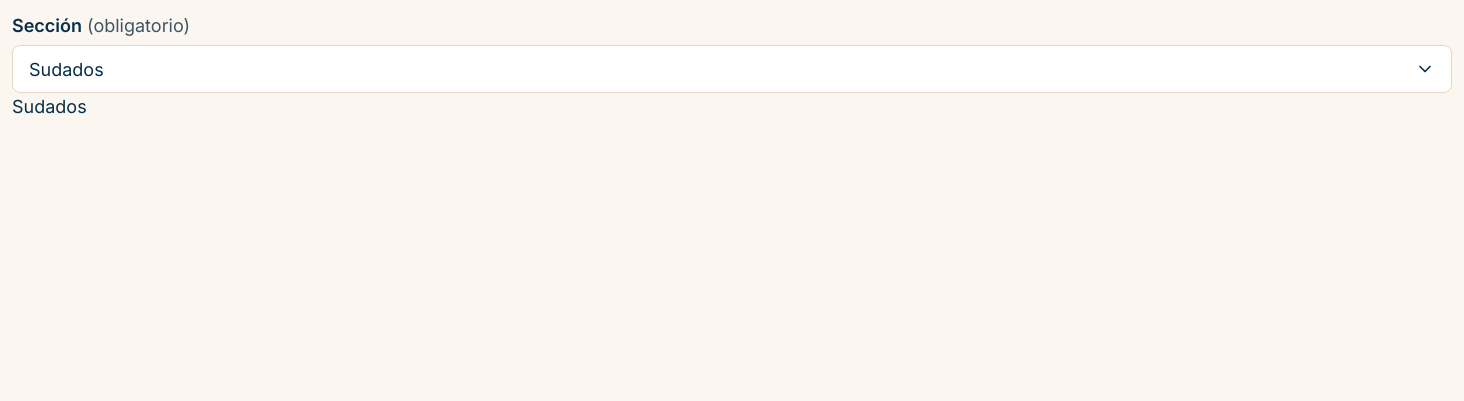
Test case: SectionPicker › al abrir lista todas las secciones, ordenadas, con la elegida marcada
The image size is (1464, 401).
Click the button named "Sección". click: [66, 69]
box: top-left (12, 45), bottom-right (1452, 93)
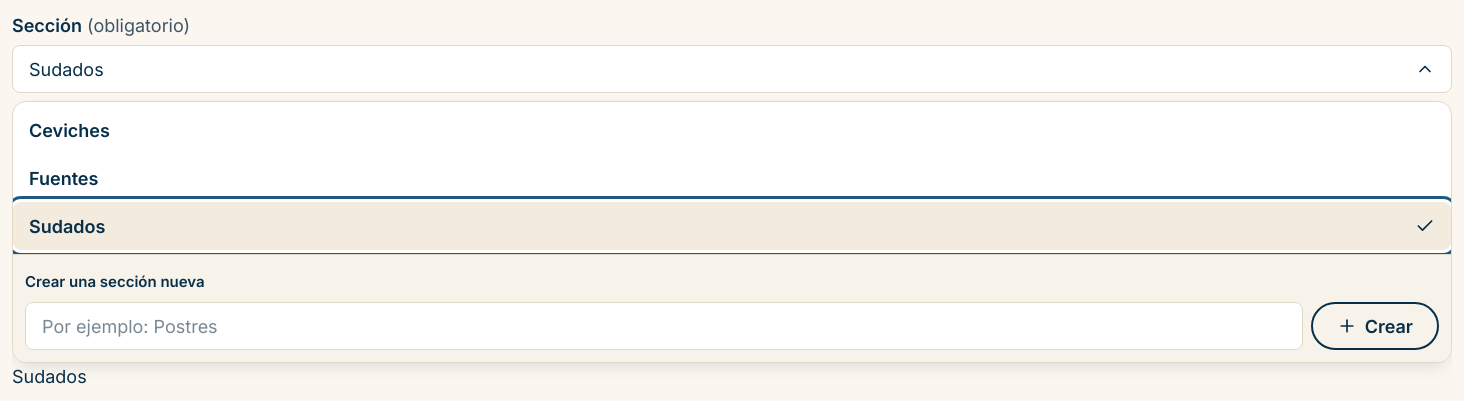
Check: the options read "Ceviches", "Fuentes", "Sudados", in this order, box top-left (29, 120), bottom-right (110, 140); top-left (29, 168), bottom-right (98, 188); top-left (13, 202), bottom-right (1451, 250)
